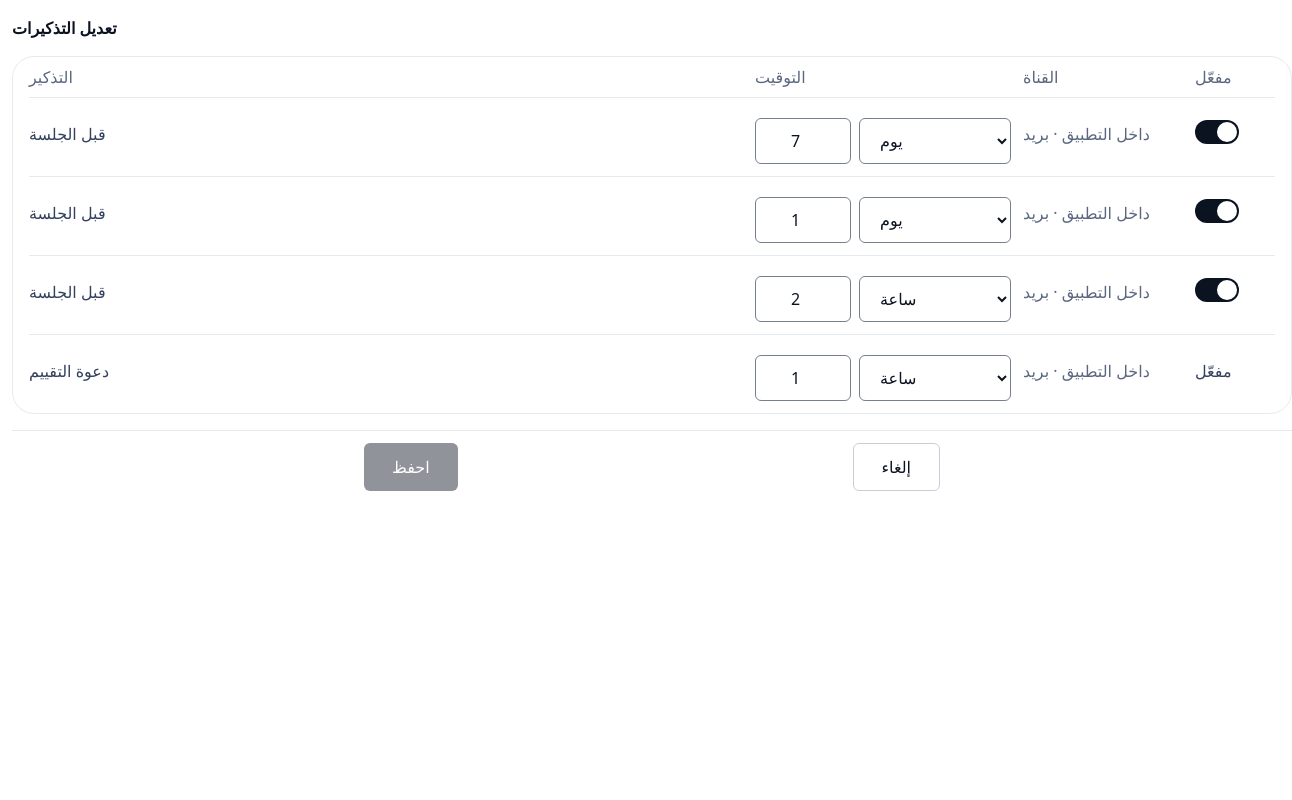
Test: RemindersEdit › «حُفظ» comes only from a receipt that wrote something, and the page goes back to read mode
Click the switch named "التذكير قبل الجلسة بساعتين". click: x=1217, y=290
box: top-left (1195, 268), bottom-right (1239, 312)
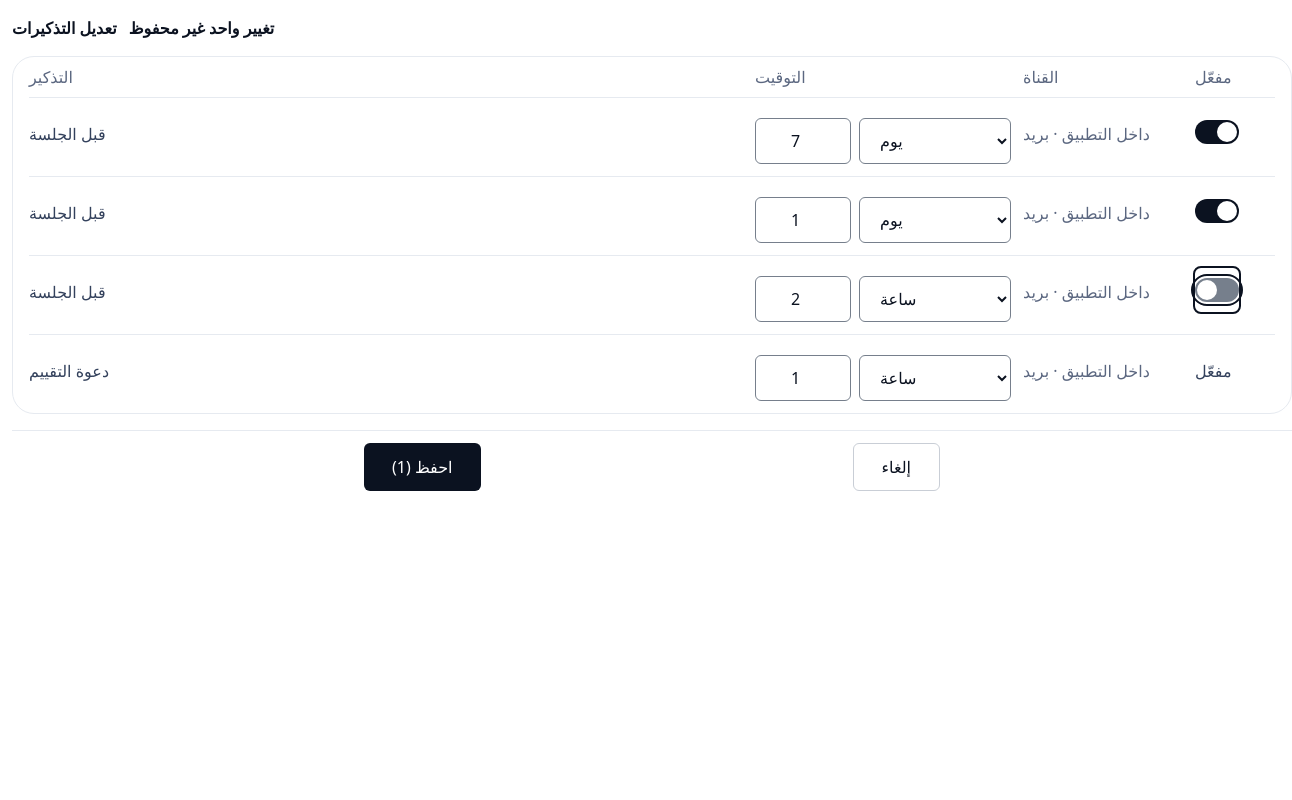
Click the button "احفظ (1)". click: x=422, y=467
box: top-left (364, 443), bottom-right (480, 491)
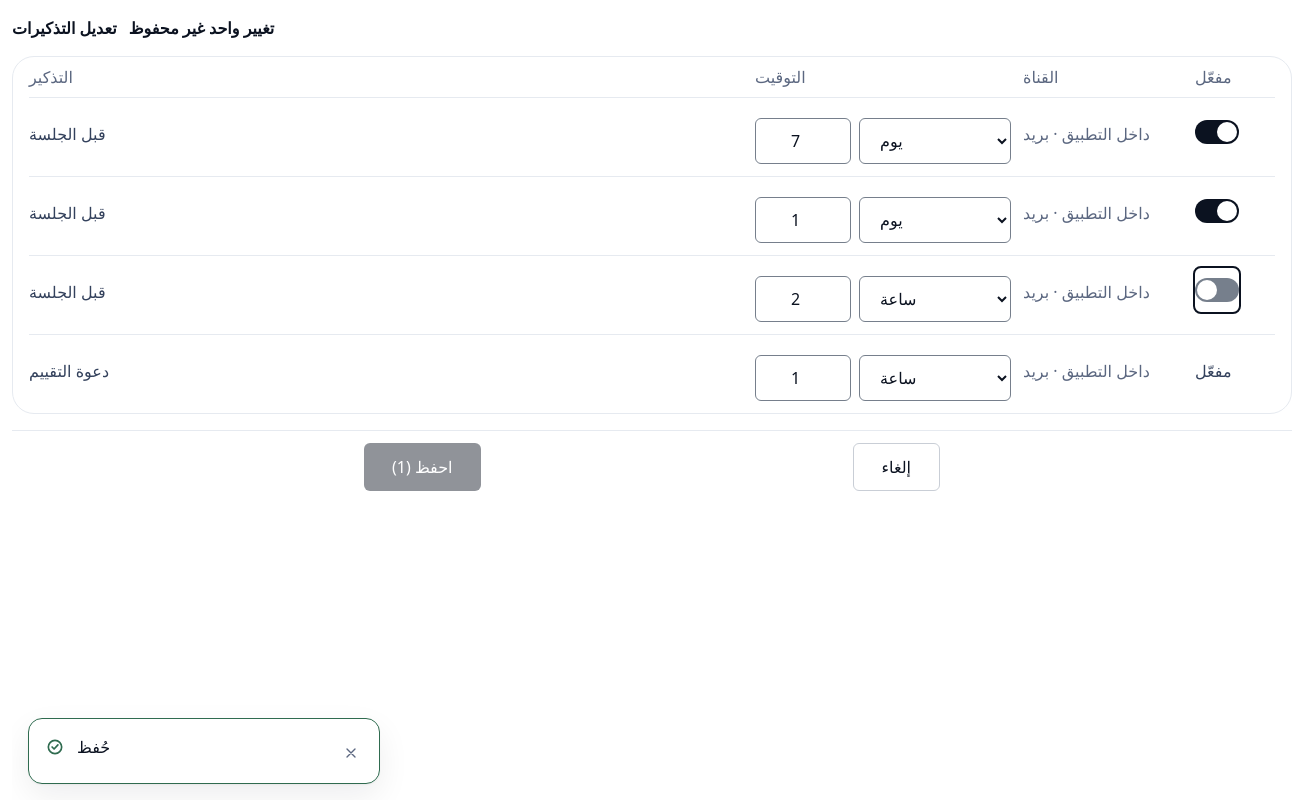
Expected: the text "حُفظ" is shown, top-left (77, 736), bottom-right (110, 758)
